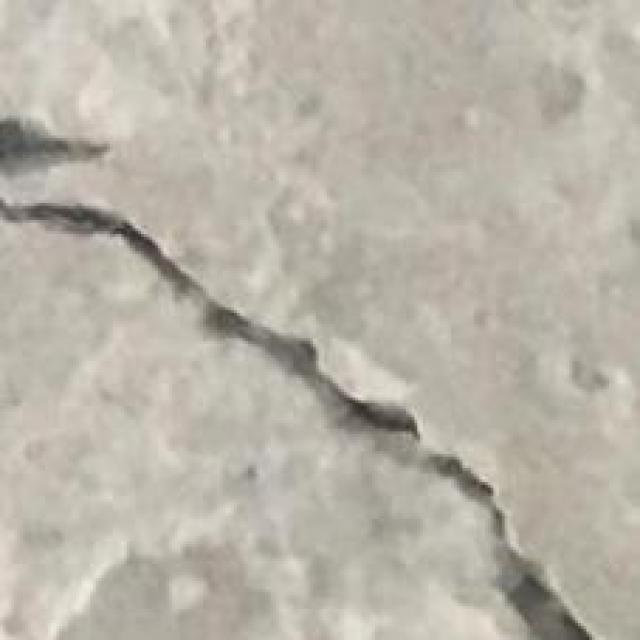Crack: (0, 194, 589, 637)
